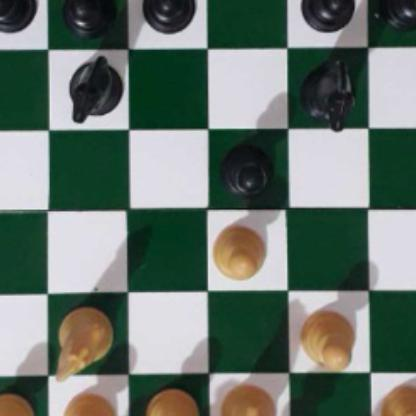black-knight: (301, 55, 358, 129), (67, 53, 120, 119)
black-pawn: (218, 137, 274, 198), (61, 0, 114, 36), (141, 0, 193, 34), (301, 0, 355, 29), (0, 0, 33, 33), (382, 0, 416, 28)
white-knight: (51, 302, 110, 376), (218, 380, 277, 416)
white-pawn: (296, 306, 355, 370), (210, 220, 265, 279), (142, 387, 198, 416), (60, 390, 117, 416), (380, 382, 416, 416), (0, 388, 34, 416)
